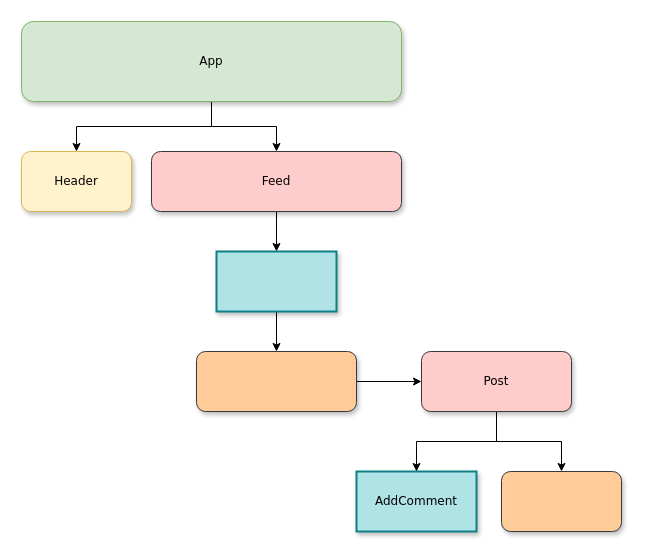
The diagram is 645 pixels wide and 557 high, and some of its shapes have lost their labels. Here are the shapes that lost their labels. From the top down, the centre of each, then its label:
At (x=277, y=282): "Create Post".
At (x=277, y=382): "PostsList".
At (x=562, y=502): "CommentsList".
